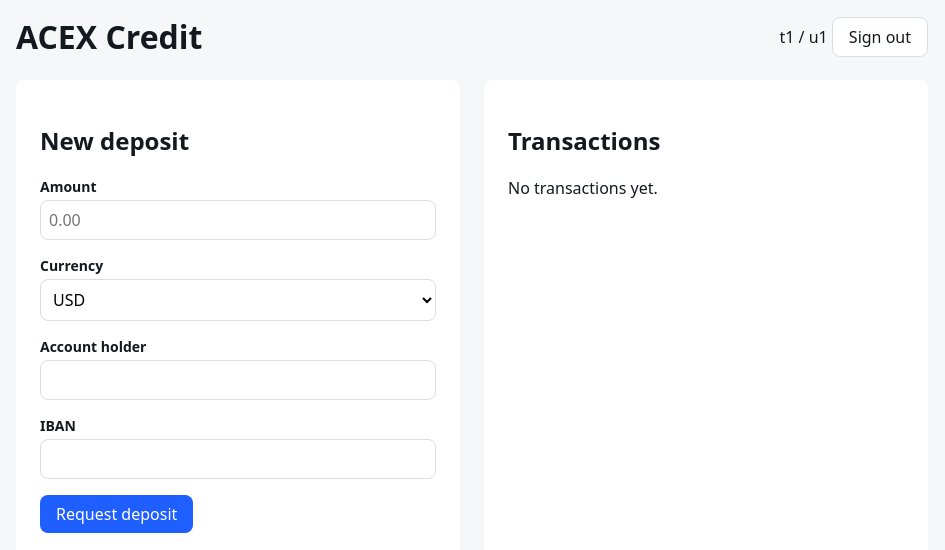
Test: home page (S1, S3) › restores the stored session and signs out back to the login form
Expected: the text "t1 / u1" is shown, [779,17,928,57]
Click the button "Sign out".
click(880, 37)  # box [832,17,928,57]
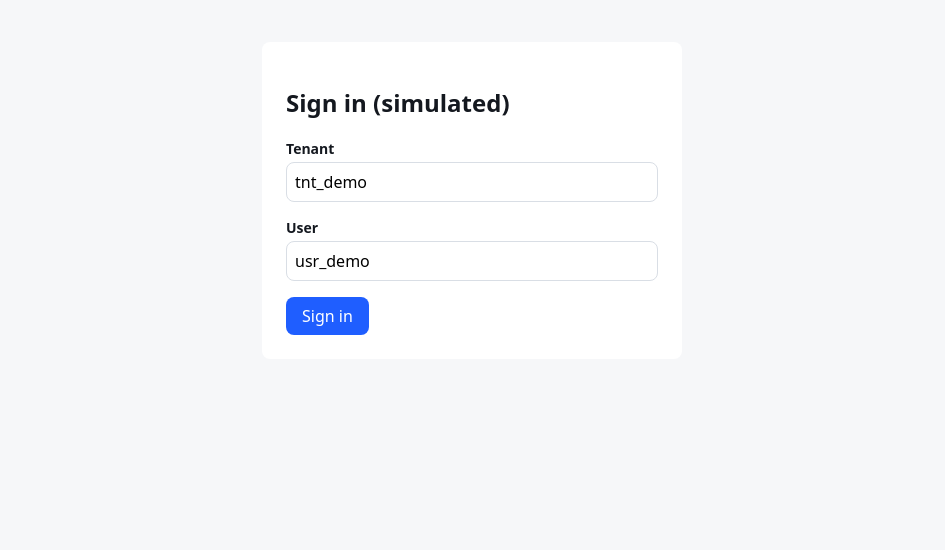
Expected: the button "Sign in" is shown, [286,297,369,335]
